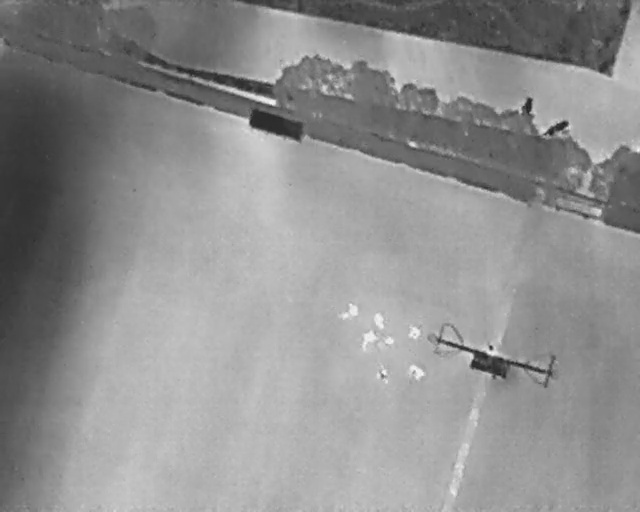Person: (403, 360, 428, 384), (360, 329, 378, 352), (370, 311, 388, 332), (407, 324, 420, 340), (376, 368, 389, 384), (336, 310, 351, 322), (383, 335, 396, 346), (349, 303, 358, 318)
